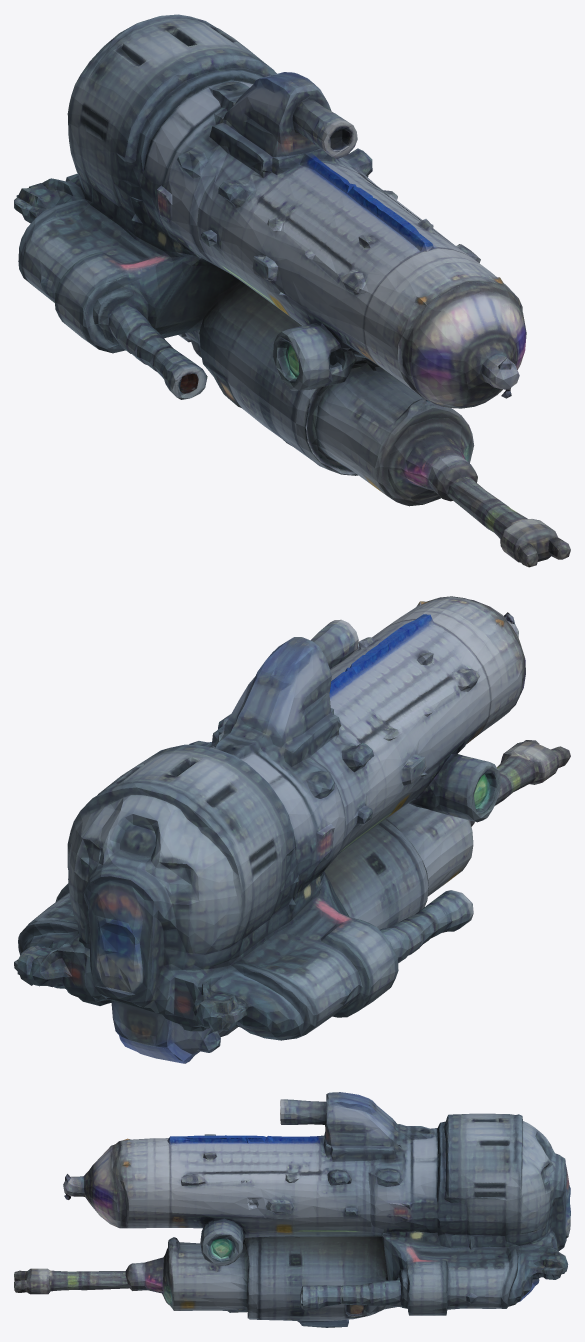
Rendered from Long Shot Gun Platform.glb.
3 views of the same model, one above another, from view 1: azimuth 30°, elevation 25°; view 2: azimuth 150°, elevation 25°; view 3: azimuth 270°, elevation 25° (orthographic). The views are drawn at different scales.
Visible parts, largest first — view 1: world; view 2: world; view 3: world.
Part boxes in pixels (box(x1,y1,x2,y2)): world: box(14, 14, 570, 567); world: box(14, 596, 570, 1063); world: box(14, 1092, 570, 1327).
Size of the model in its own units: 0.4211 by 0.4529 by 0.9982.
Materials: 1 (1 with a texture image).
